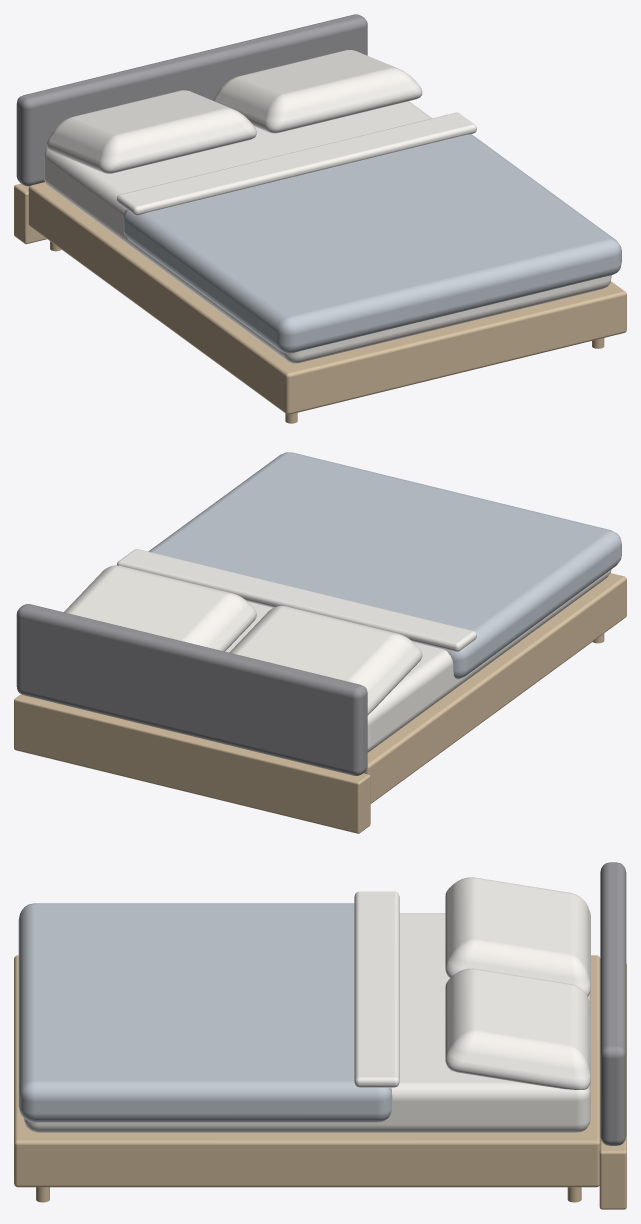
File: bed_double.glb
3 views of the same model, one above another, from view 1: azimuth 30°, elevation 25°; view 2: azimuth 150°, elevation 25°; view 3: azimuth 270°, elevation 25° (orthographic). The views are drawn at different scales.
Parts seen in each view (by area): view 1: bed_double.duvet, bed_double.frame, bed_double.mattress, bed_double.headboard, bed_double.pillow-1, bed_double.pillow1, bed_double.fold, bed_double.hb_base; view 2: bed_double.duvet, bed_double.headboard, bed_double.hb_base, bed_double.frame, bed_double.pillow-1, bed_double.pillow1, bed_double.fold, bed_double.mattress; view 3: bed_double.duvet, bed_double.frame, bed_double.mattress, bed_double.pillow1, bed_double.pillow-1, bed_double.fold, bed_double.headboard, bed_double.hb_base.
Boxes of the visible parts, bbox=[...] form: bed_double.duvet: bbox=[123, 134, 621, 353]; bed_double.frame: bbox=[28, 182, 626, 414]; bed_double.mattress: bbox=[44, 101, 611, 363]; bed_double.headboard: bbox=[16, 14, 367, 186]; bed_double.pillow-1: bbox=[46, 90, 256, 173]; bed_double.pillow1: bbox=[213, 50, 422, 133]; bed_double.fold: bbox=[116, 112, 476, 215]; bed_double.hb_base: bbox=[14, 183, 46, 244]; bed_double.duvet: bbox=[148, 452, 621, 679]; bed_double.headboard: bbox=[16, 604, 367, 775]; bed_double.hb_base: bbox=[14, 694, 370, 833]; bed_double.frame: bbox=[363, 573, 626, 803]; bed_double.pillow-1: bbox=[229, 605, 422, 714]; bed_double.pillow1: bbox=[64, 565, 256, 651]; bed_double.fold: bbox=[117, 549, 476, 651]; bed_double.mattress: bbox=[225, 569, 611, 752]; bed_double.duvet: bbox=[18, 903, 392, 1122]; bed_double.frame: bbox=[14, 955, 600, 1187]; bed_double.mattress: bbox=[23, 913, 590, 1132]; bed_double.pillow1: bbox=[445, 968, 590, 1089]; bed_double.pillow-1: bbox=[445, 877, 590, 996]; bed_double.fold: bbox=[354, 891, 399, 1087]; bed_double.headboard: bbox=[600, 862, 626, 1145]; bed_double.hb_base: bbox=[599, 963, 626, 1209].
Size of the model in its own units: 1.4 by 0.55 by 1.9.
